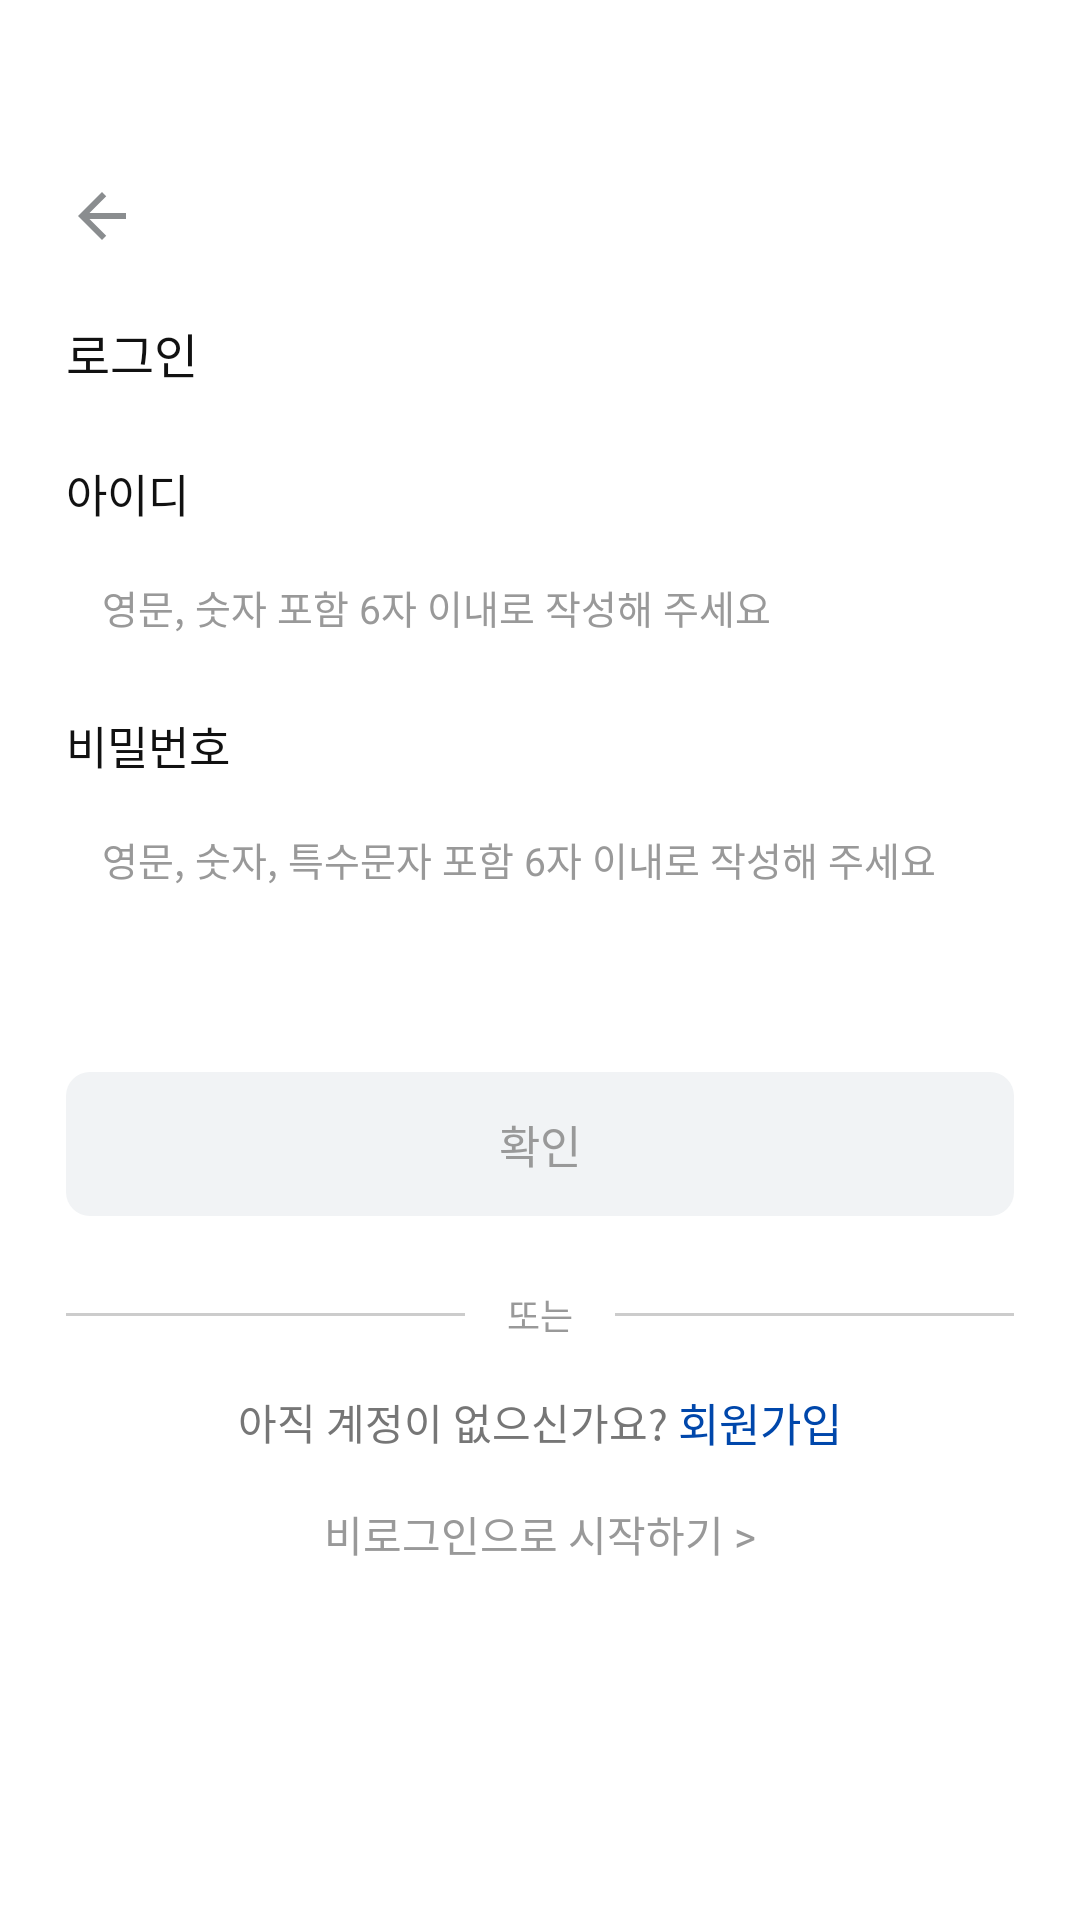

Icon click points for this 1080x1920 phone screenshot, format (x,y):
뒤로가기: (102,216)
